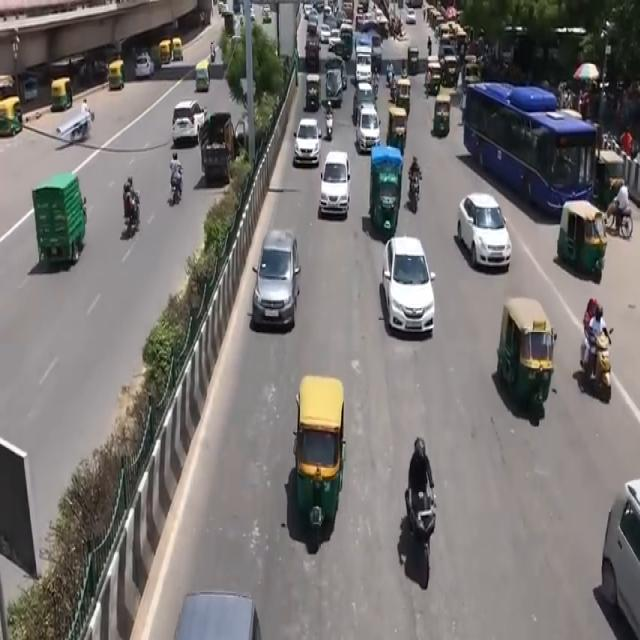BUS: (468, 78, 600, 223)
MOTORCYCLE: (582, 324, 612, 406), (125, 194, 142, 238), (410, 173, 422, 214)
